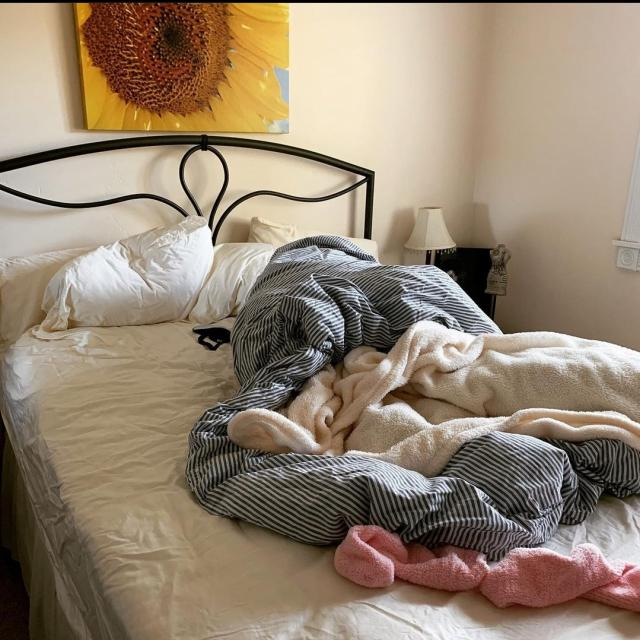bed: (9, 216, 640, 640)
